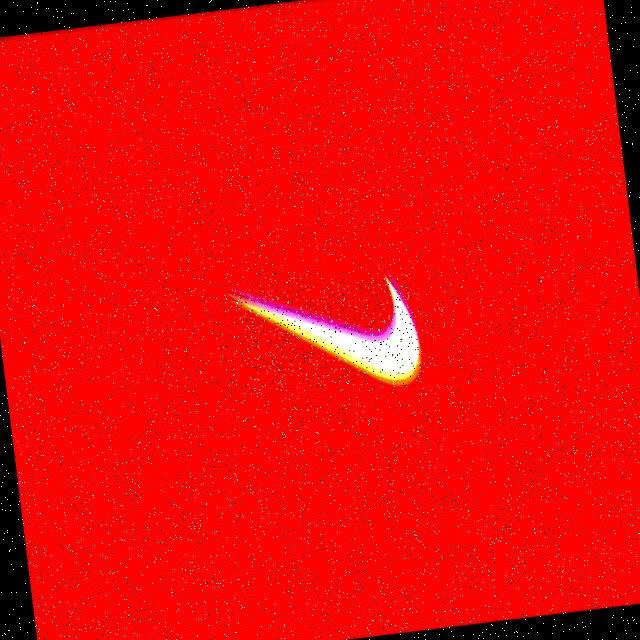Nike: (236, 273, 422, 396)
